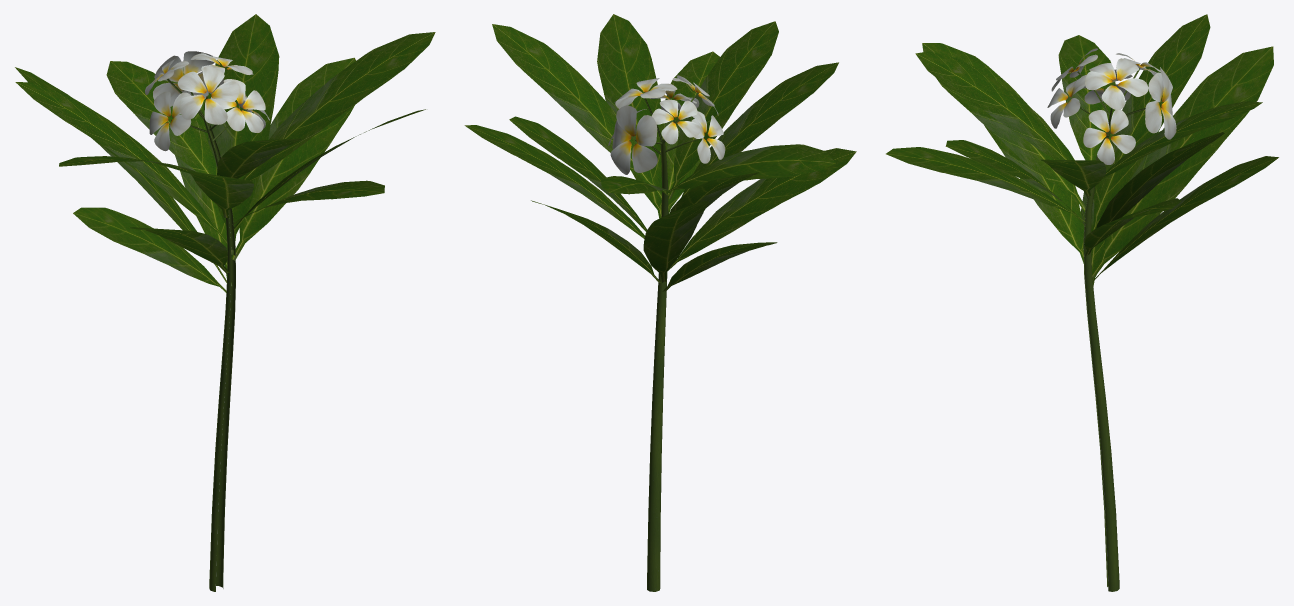
File: QH-耶悉茗.fbx
3 views of the same model, side by side, from view 1: azimuth 30°, elevation 25°; view 2: azimuth 150°, elevation 25°; view 3: azimuth 270°, elevation 25° (orthographic). The views are drawn at different scales.
Parts seen in each view (by area): view 1: QH-耶悉茗; view 2: QH-耶悉茗; view 3: QH-耶悉茗.
Boxes of the visible parts, x1=… form: QH-耶悉茗: x1=15, y1=14, x2=435, y2=591; QH-耶悉茗: x1=464, y1=14, x2=856, y2=591; QH-耶悉茗: x1=886, y1=14, x2=1278, y2=591.
Bounding box in the file's own units: 0.2232 × 0.2097 × 0.3083.
